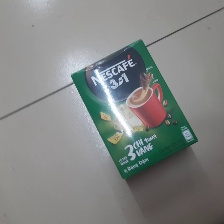Nes Rang: (71, 39, 199, 181)
